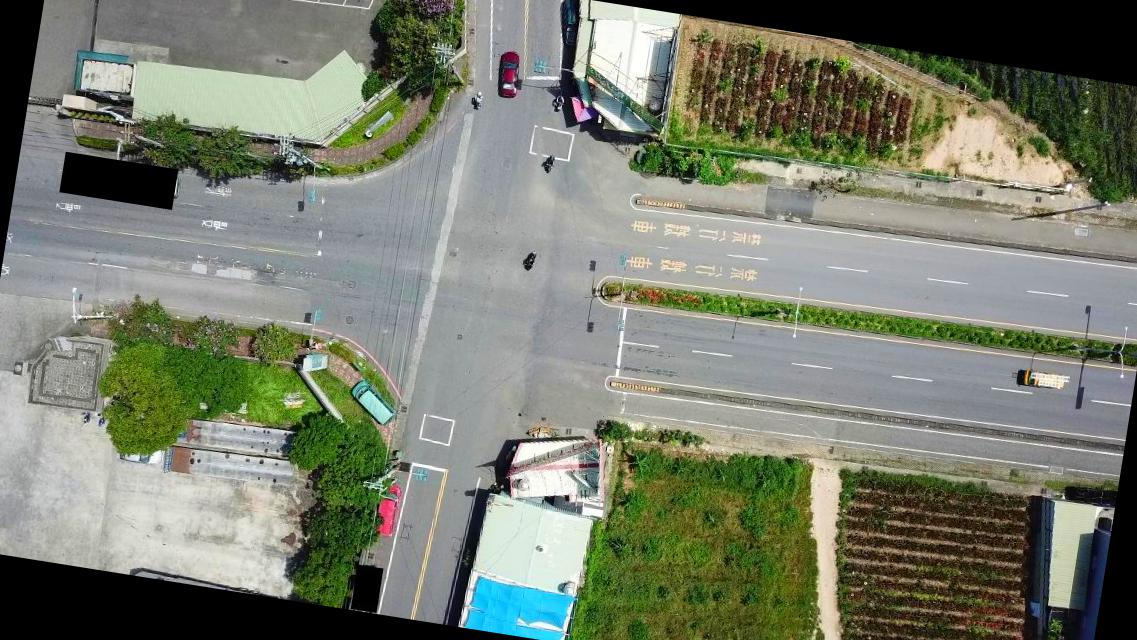vehicle: (343, 380, 402, 428), (492, 50, 526, 100), (373, 483, 401, 540), (1016, 364, 1068, 391), (115, 440, 164, 468)
